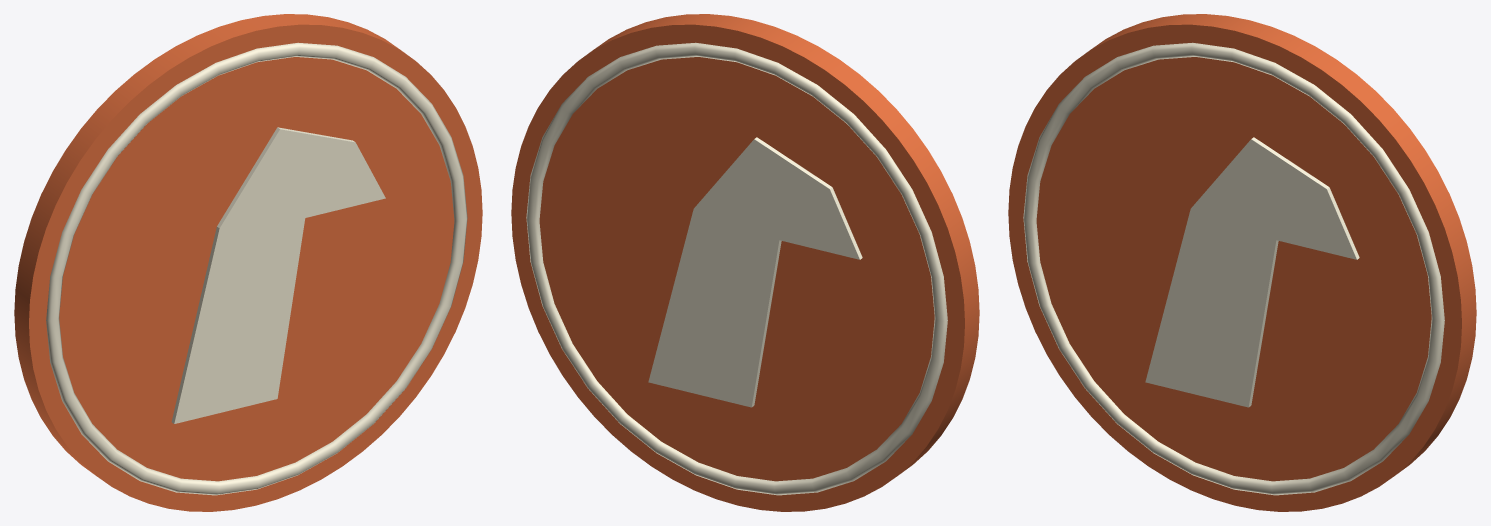
File: ravencoin.glb
3 views of the same model, side by side, from view 1: azimuth 30°, elevation 25°; view 2: azimuth 150°, elevation 25°; view 3: azimuth 330°, elevation 25° (orthographic).
Parts seen in each view (by area): view 1: coin-face, ravencoin; view 2: coin-face, ravencoin; view 3: coin-face, ravencoin.
Boxes of the visible parts, box(x1,y1,x2,y2) form: coin-face: box(46, 42, 467, 495); ravencoin: box(14, 14, 482, 511); coin-face: box(526, 42, 947, 495); ravencoin: box(511, 14, 979, 511); coin-face: box(1023, 42, 1444, 495); ravencoin: box(1008, 14, 1476, 511).
Size of the model in its own units: 0.9 by 0.9 by 0.0788.
